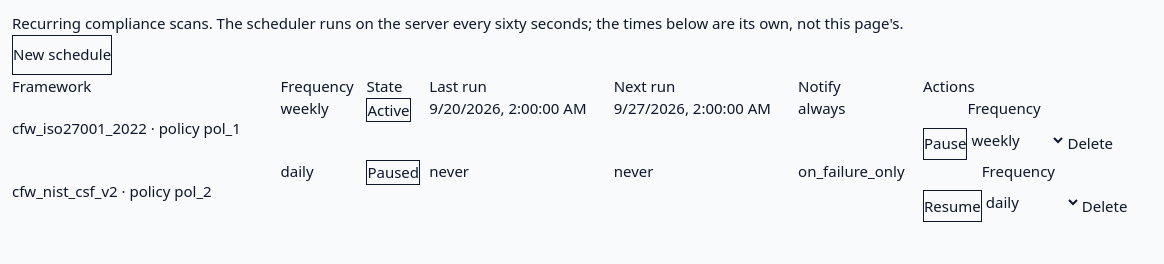
Test: writes go through the backend's own contract › shows the backend's own refusal
Expected: the text "cfw_iso27001_2022" is shown, [12,118,147,138]
Click the button "Pause" at (945, 144), box [923,128,967,160]
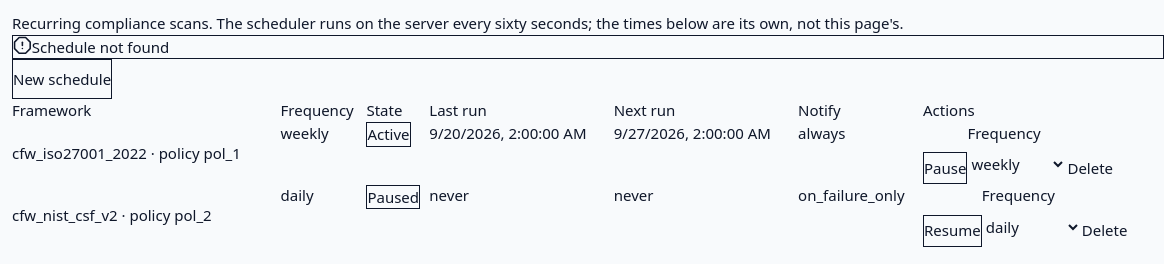
Expected: the text "Schedule not found" is shown, [32,36,169,56]
